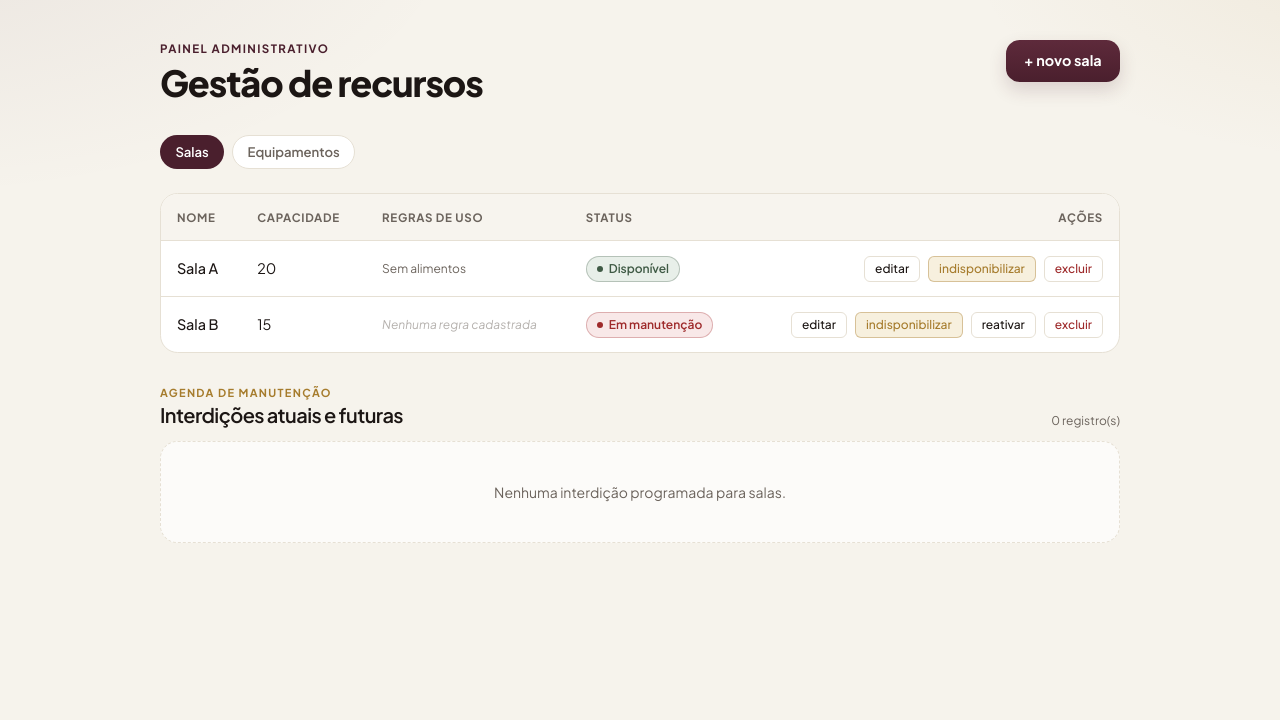
Test: AdminRecursos Page › indisponibiliza um recurso usando um intervalo personalizado
Expected: the text "Sala A" is shown, [161,241,241,297]
Step 1. Click the button "indisponibilizar" in the row of "Sala A" → (982, 269), box [928,256,1036,282]
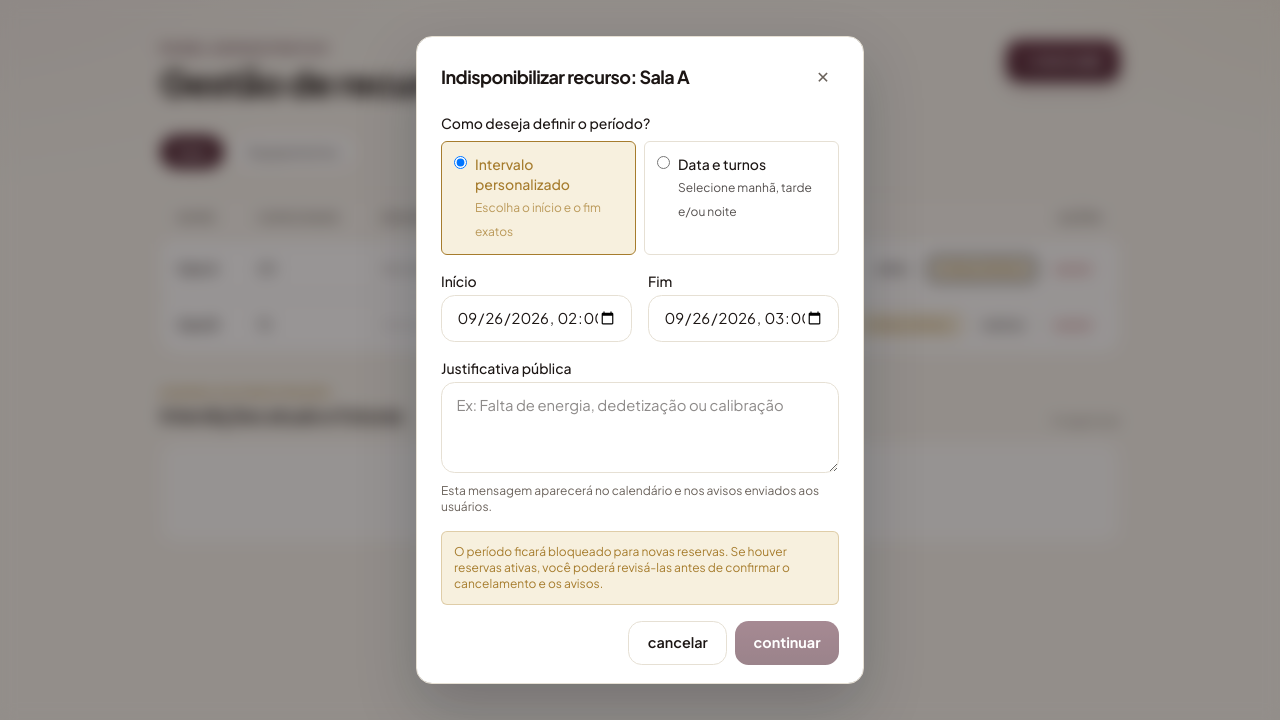
Result: the heading "Indisponibilizar recurso: Sala A" is shown at [441,63,689,91]
Result: the radio button labelled "Intervalo personalizado Escolha o início e o fim exatos" is checked at [454,156,467,169]
Step 2. Replace the text in the field labelled "Início" with "2026-11-10T08:00" → (536, 318), box [441,295,632,342]
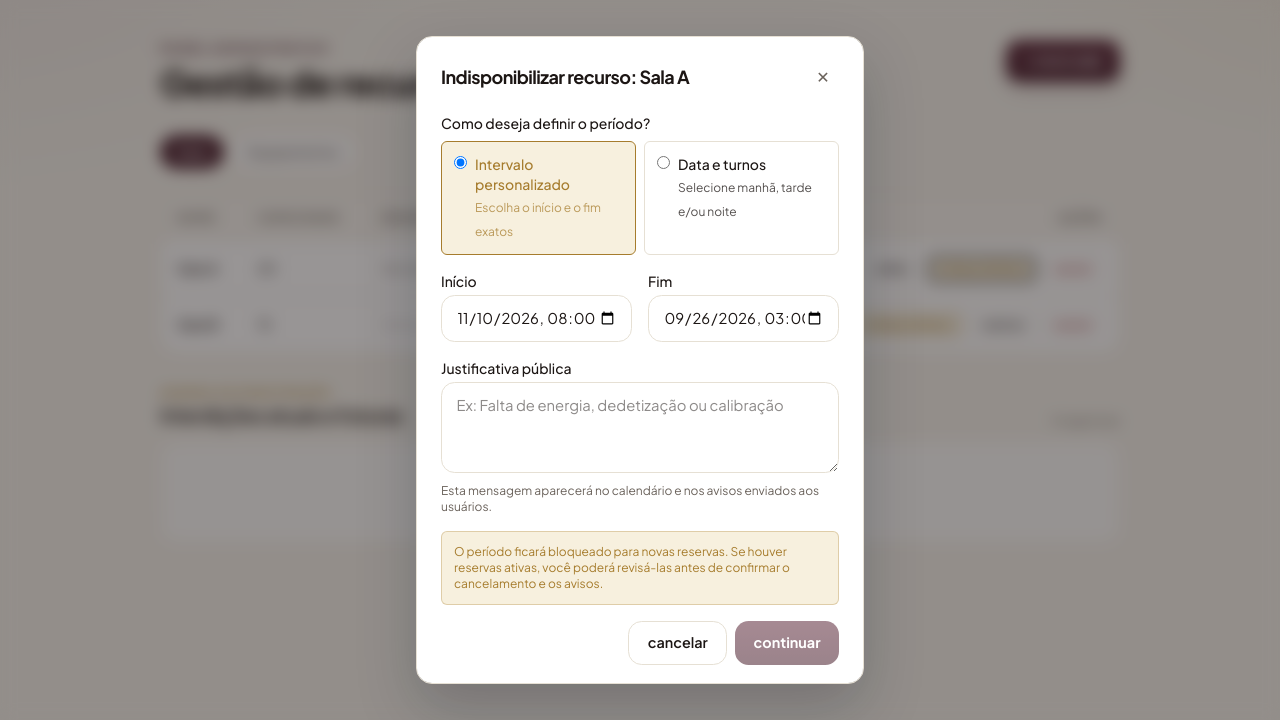
Step 3. Replace the text in the field labelled "Fim" with "2026-11-10T12:00" → (744, 318), box [648,295,839,342]
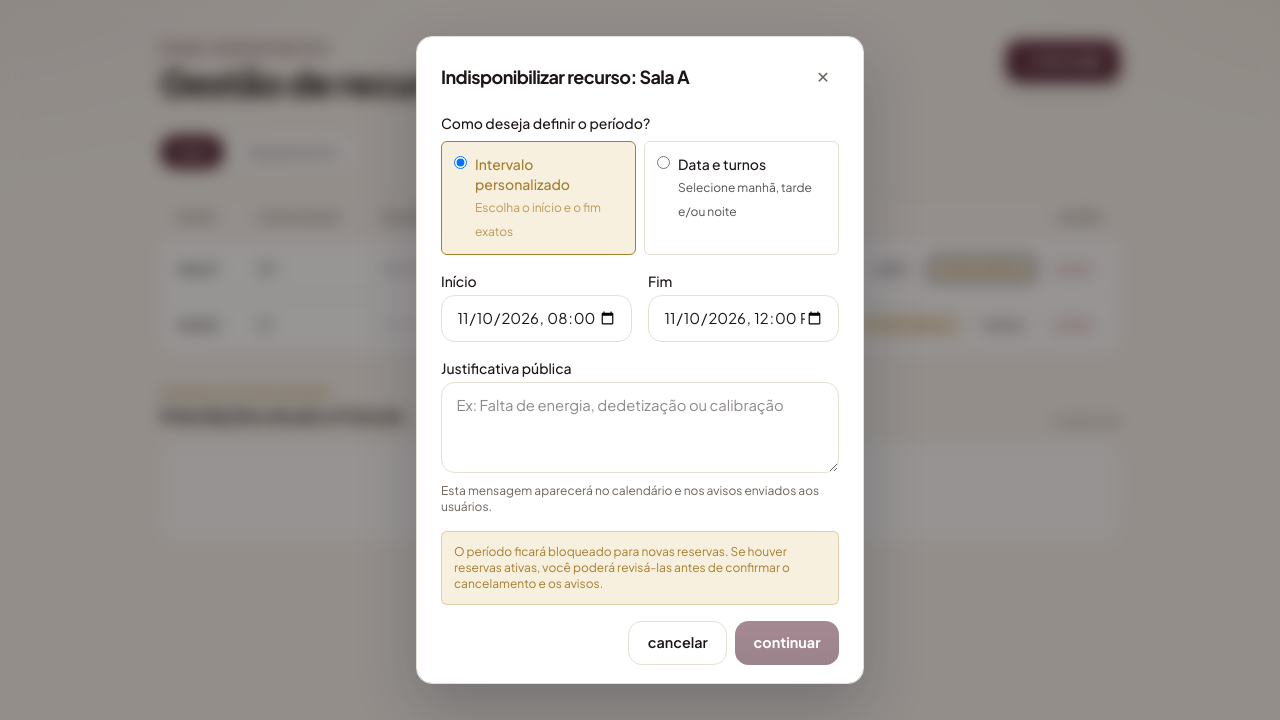
Step 4. Type "Calibração de sensores" into the text box labelled "Justificativa pública" → (640, 427), box [441,382,839,472]
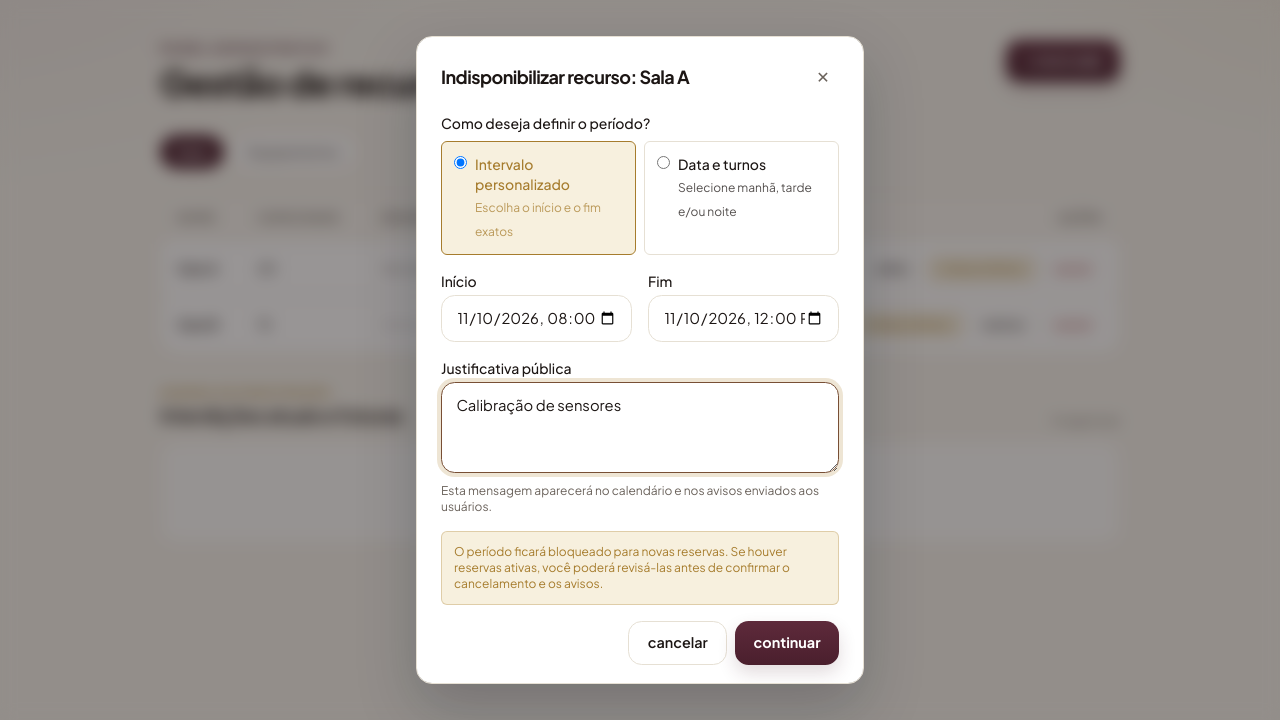
Step 5. Click the button "continuar" → (787, 643), box [735,620,839,665]
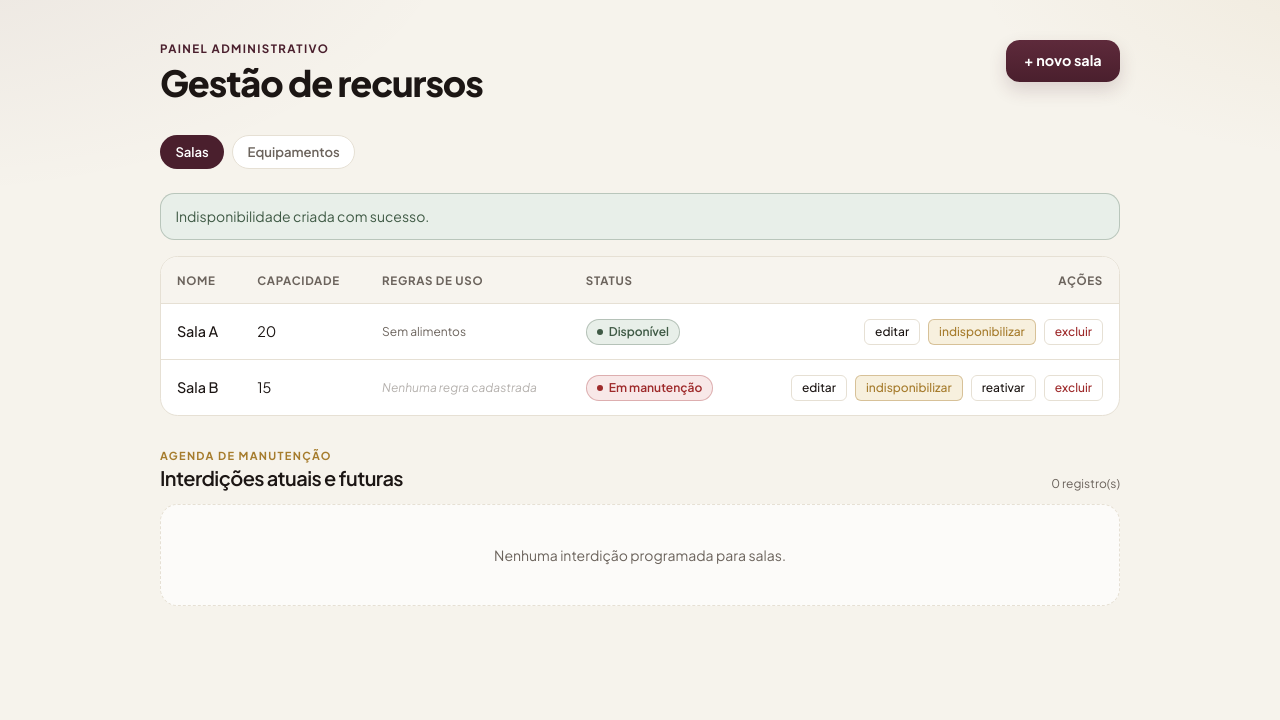
Result: the text "Indisponibilidade criada com sucesso." is shown at [160,193,1120,240]
